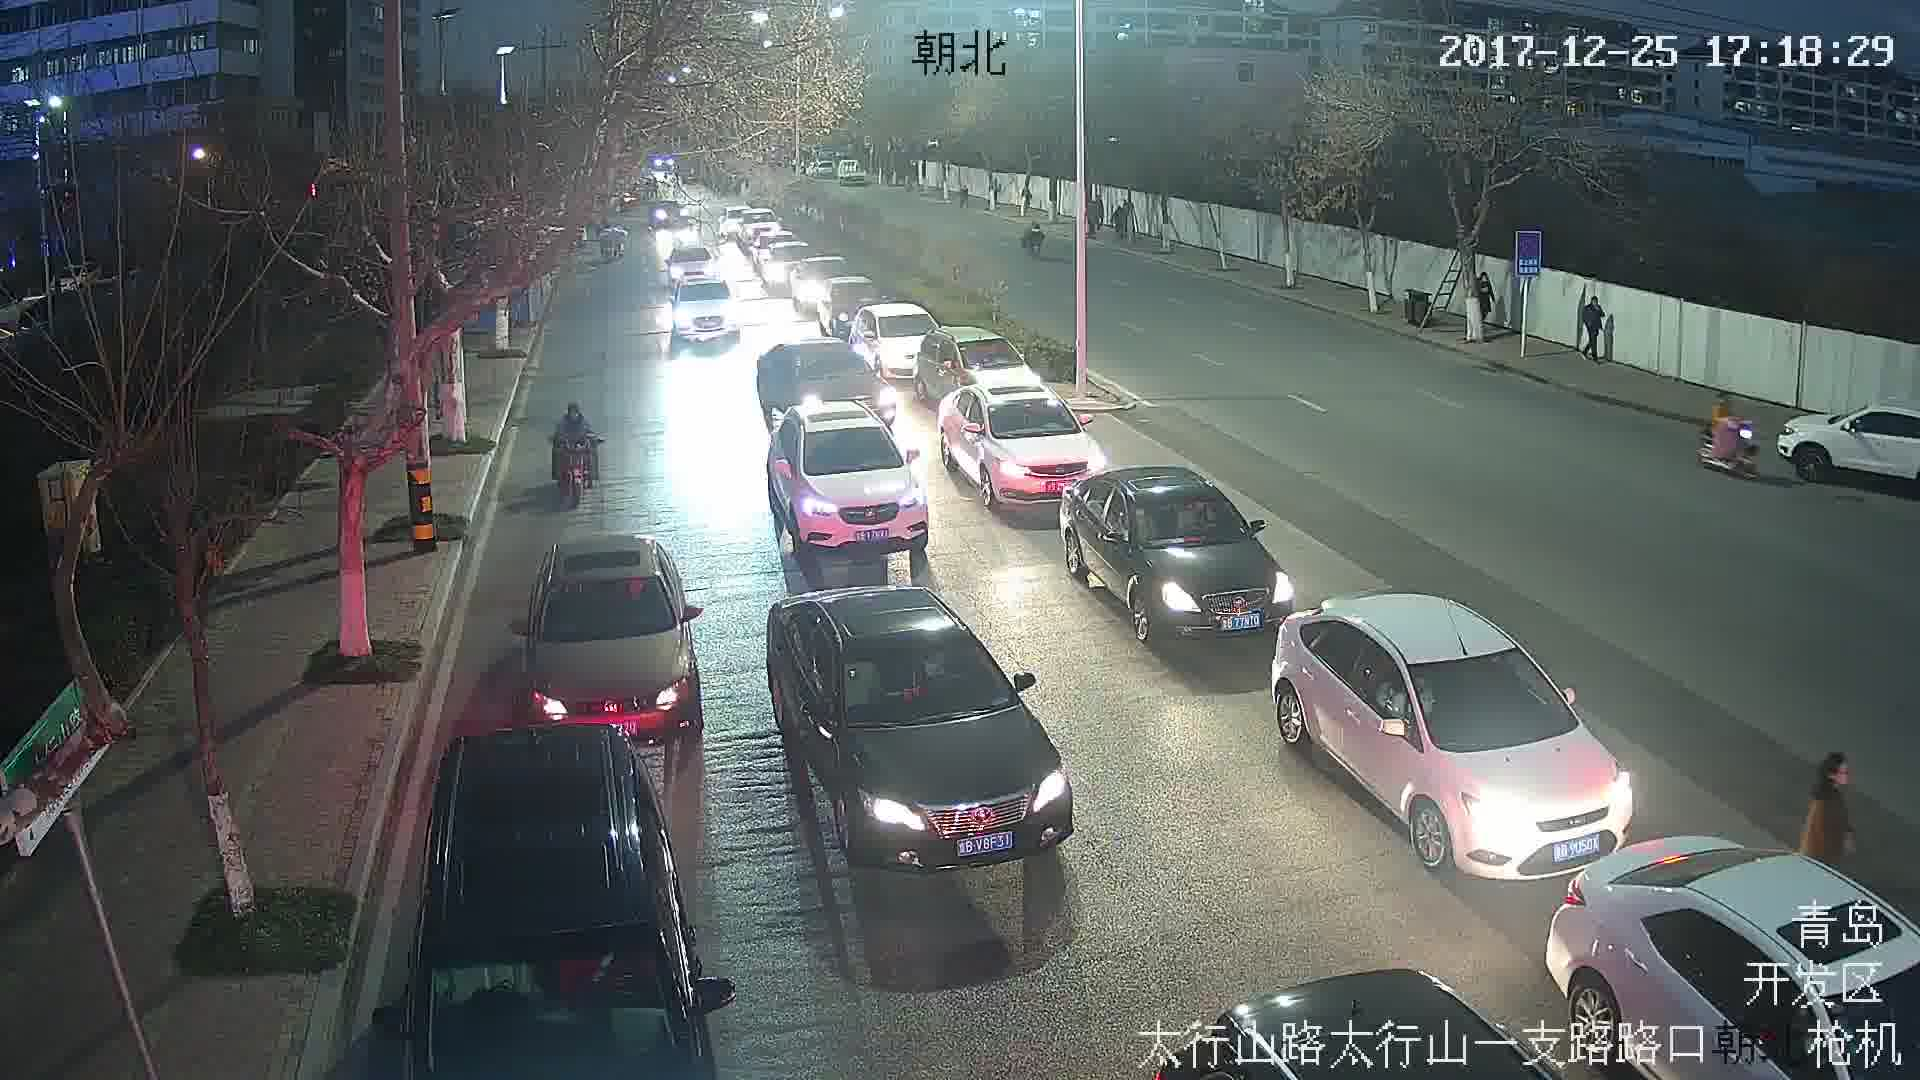car: (1275, 594, 1635, 877), (768, 591, 1077, 870), (514, 534, 706, 741), (1067, 466, 1295, 637), (766, 402, 930, 555), (939, 387, 1109, 506), (670, 278, 739, 345)
person: (1803, 752, 1859, 860), (552, 403, 599, 506), (1706, 388, 1742, 457), (1575, 289, 1606, 363)
